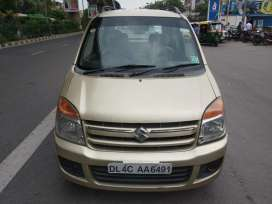license_plate: (107, 161, 174, 176)
